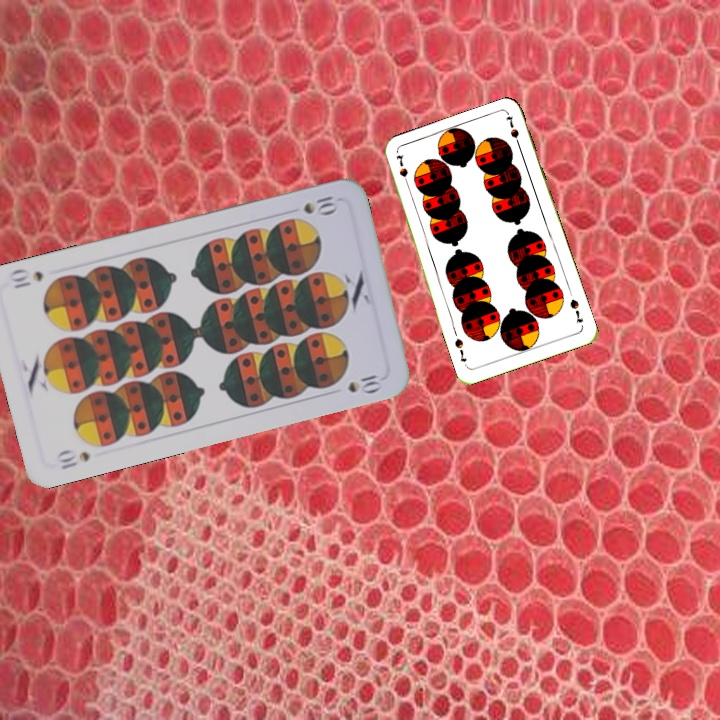S10: (52, 446, 94, 472), (299, 192, 340, 217)
S7: (392, 150, 412, 190), (566, 295, 586, 326)
